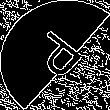P_SE: (21, 24, 89, 86)
